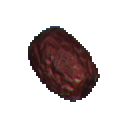gd: (19, 19, 110, 112)
